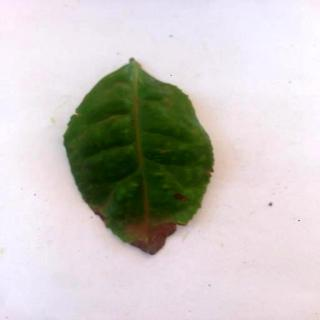Brown Blight: (63, 57, 216, 257)
